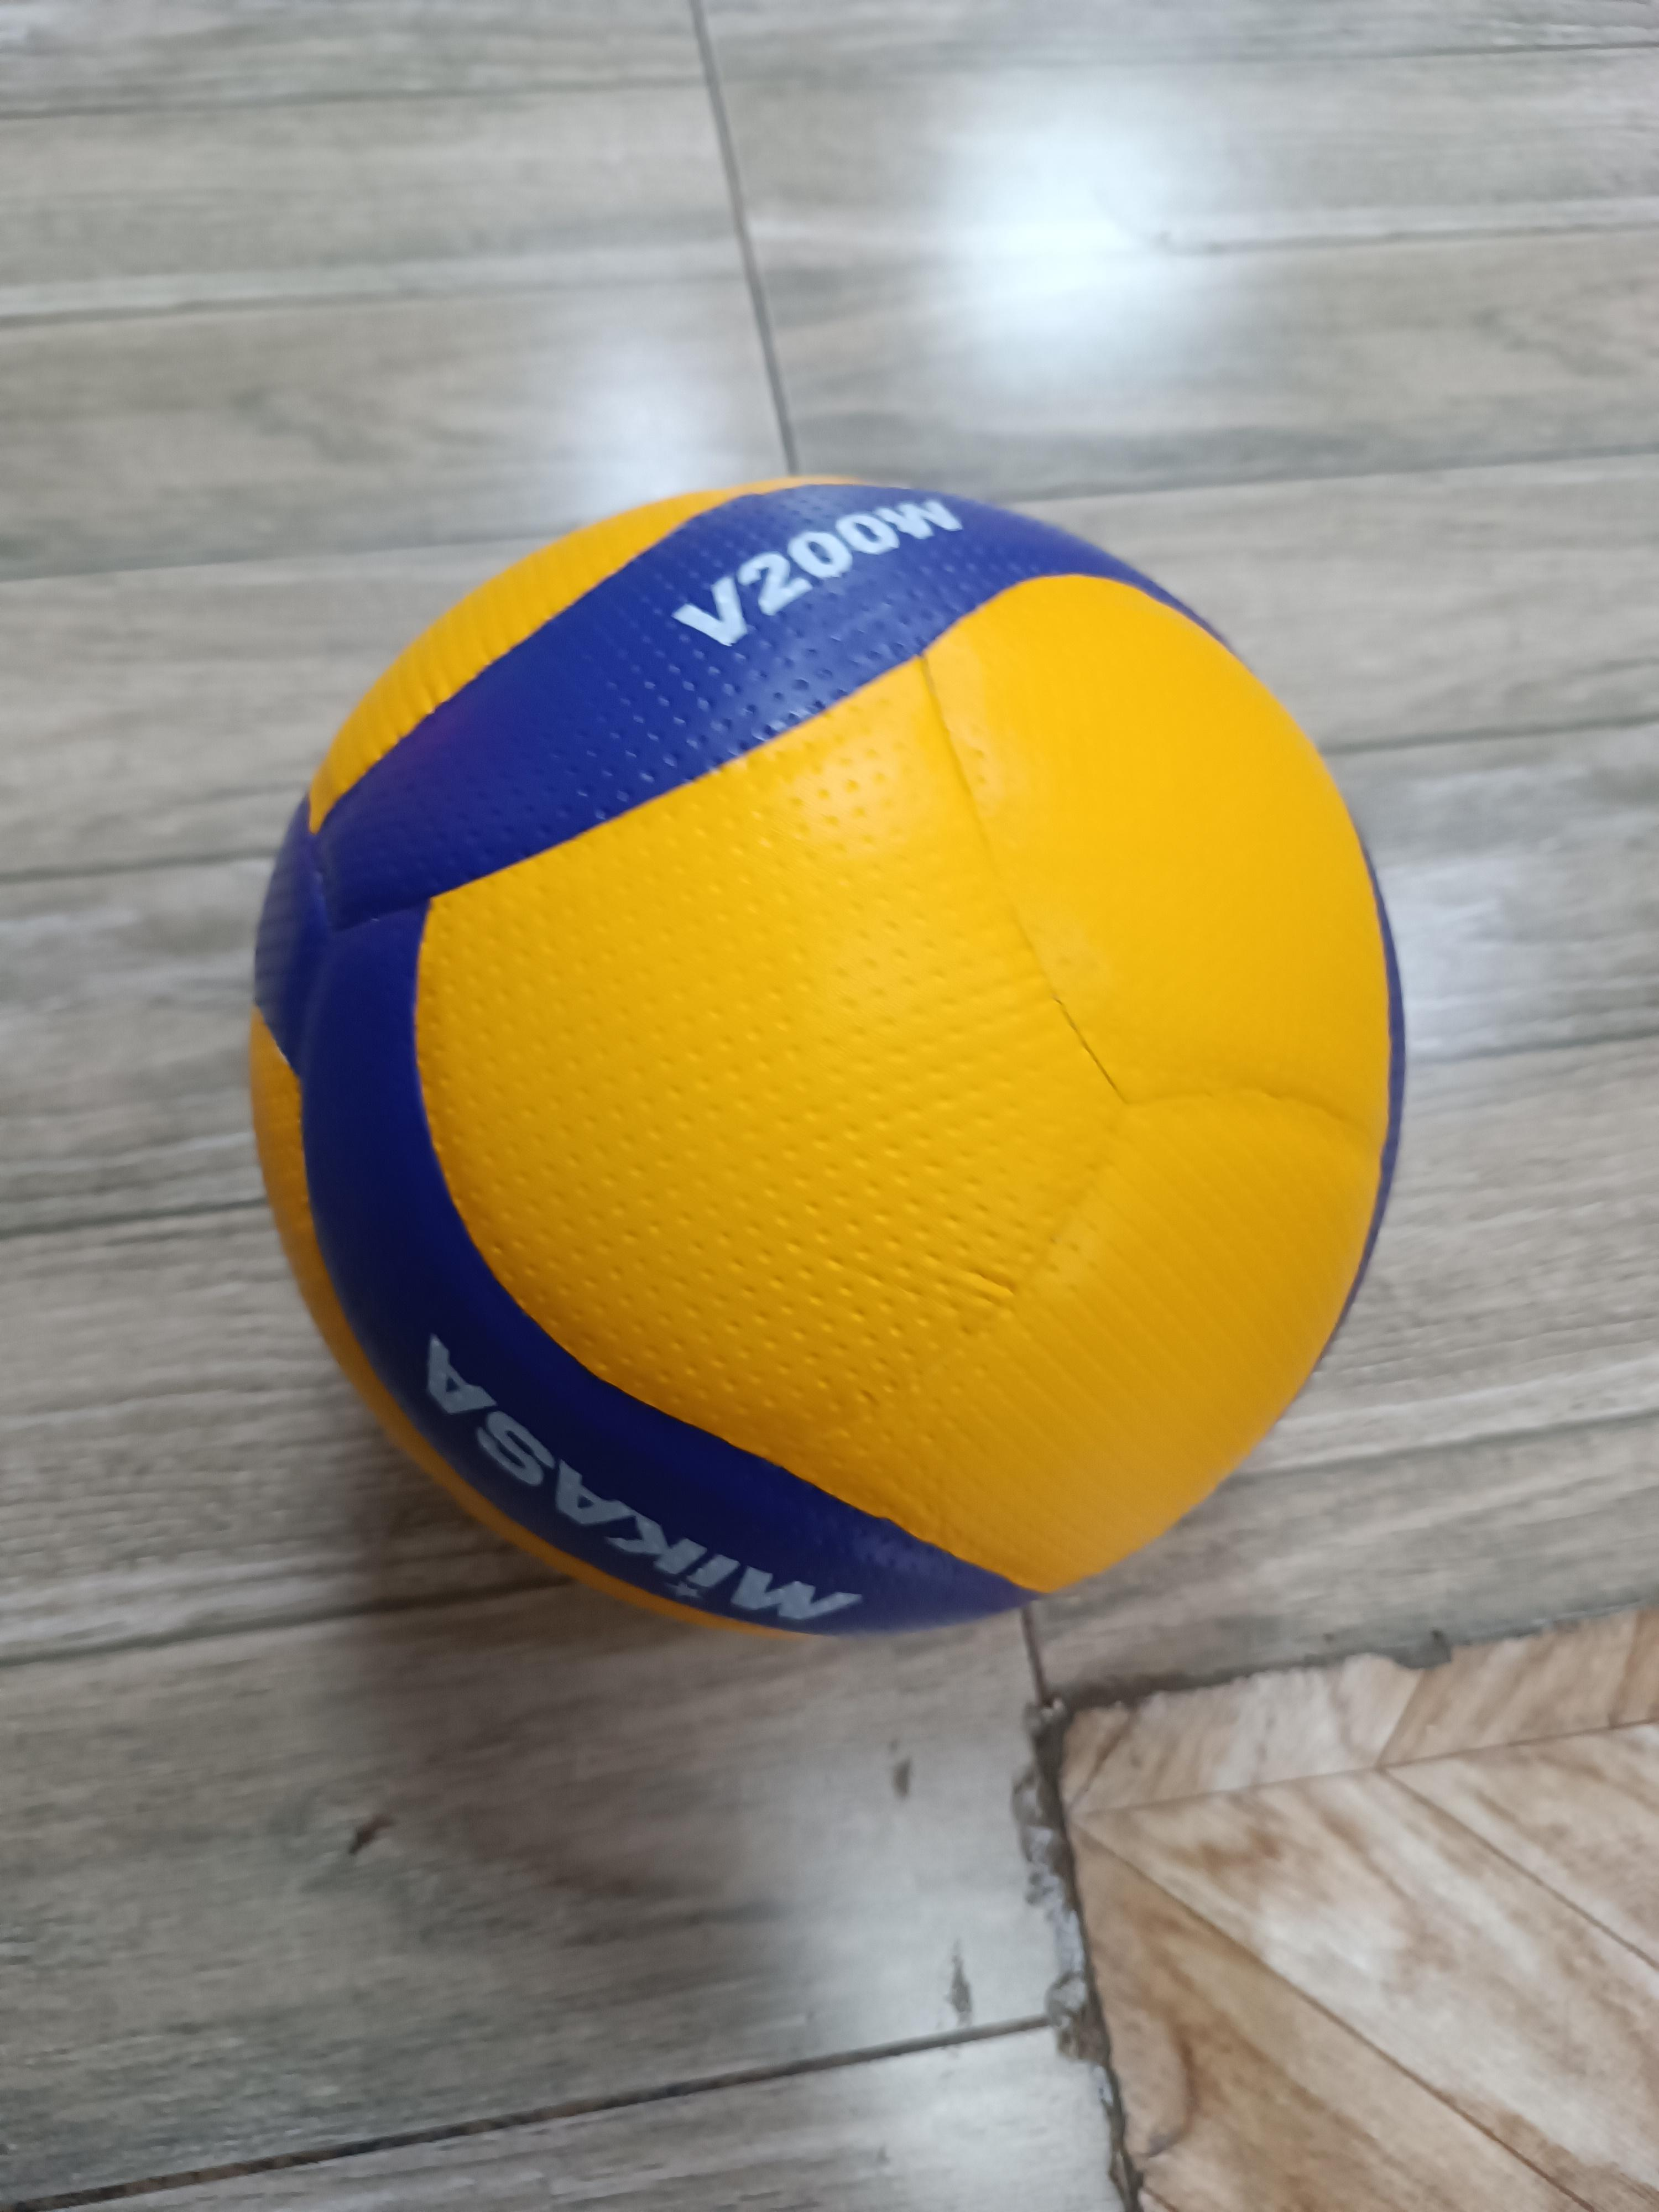Sports-Ball: (251, 479, 1399, 1634)
